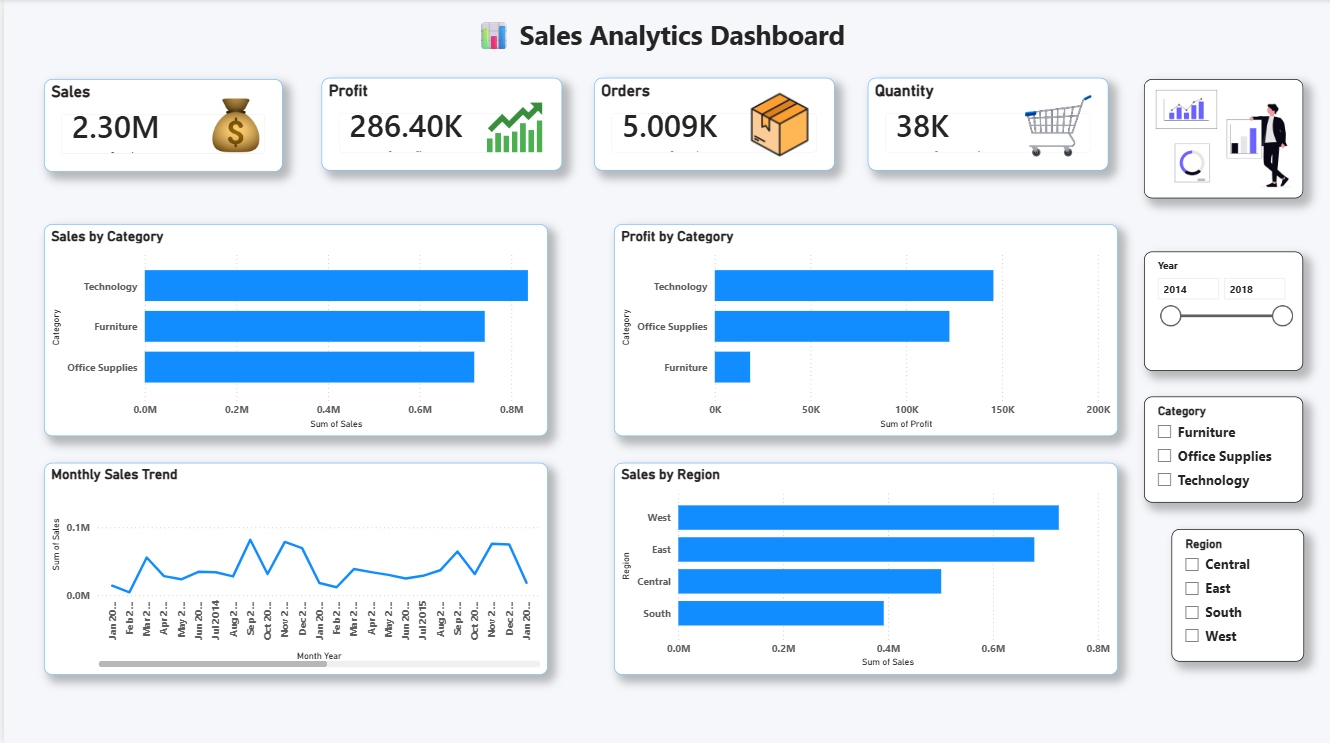

The dashboard page shown, as its layout file describes it:
{"tool":"powerbi","page":{"name":"Dashboard","canvas":[1600,900],"ordinal":0},"visuals":[{"type":"cardVisual","title":"Sales","fields":{"Data":["Sum(Sample.Sales)"]},"box":[48,96,288,112],"z":0},{"type":"cardVisual","title":"Profit","fields":{"Data":["Sum(Sample.Profit)"]},"box":[382.4,94.9,290,112],"z":1000},{"type":"cardVisual","title":"Orders","fields":{"Data":["Count(Sample.Order ID)"]},"box":[712.4,94.9,290,112],"z":2000},{"type":"cardVisual","title":"Quantity","fields":{"Data":["Sum(Sample.Quantity)"]},"box":[1042.4,94.9,290,112],"z":3000},{"type":"clusteredBarChart","title":"Sales by Category","fields":{"Category":["Sample.Category"],"Y":["Sum(Sample.Sales)"]},"box":[48,272,608,256],"z":4000},{"type":"clusteredBarChart","title":"Profit by Category","fields":{"Category":["Sample.Category"],"Y":["Sum(Sample.Profit)"]},"box":[736,272,608,256],"z":5000},{"type":"lineChart","title":"Monthly Sales Trend","fields":{"Y":["Sum(Sample.Sales)"],"Category":["Sample.Month Year"]},"box":[48,560,608,256],"z":6000},{"type":"clusteredBarChart","title":"Sales by Region","fields":{"Y":["Sum(Sample.Sales)"],"Category":["Sample.Region"]},"box":[736,560,608,256],"z":7000},{"type":"textbox","box":[564,16.6,472,54.3],"z":8000},{"type":"slicer","fields":{"Values":["Sample.Ship Date.Variation.Date Hierarchy.Year"]},"box":[1376,304,192,144],"z":9000},{"type":"slicer","fields":{"Values":["Sample.Category"]},"box":[1376,480,192,128],"z":10000},{"type":"slicer","fields":{"Values":["Sample.Region"]},"box":[1408,640,160,160],"z":11000},{"type":"image","box":[240,112,80,80],"z":12000},{"type":"image","box":[576,112,80,80],"z":13000},{"type":"image","box":[896,112,80,80],"z":14000},{"type":"image","box":[1232,112,80,80],"z":15000},{"type":"image","box":[1376,96,192,144],"z":16000}]}

Visuals, with their boxes in screenshot pixels (x1, y1, x2, y2), scaled from the page's 1600x900 canvas onto the 1330x743 screenshot:
"Sales" cardVisual: [left=40, top=79, right=279, bottom=172]
"Profit" cardVisual: [left=318, top=78, right=559, bottom=171]
"Orders" cardVisual: [left=592, top=78, right=833, bottom=171]
"Quantity" cardVisual: [left=866, top=78, right=1108, bottom=171]
"Sales by Category" clusteredBarChart: [left=40, top=225, right=545, bottom=436]
"Profit by Category" clusteredBarChart: [left=612, top=225, right=1117, bottom=436]
"Monthly Sales Trend" lineChart: [left=40, top=462, right=545, bottom=674]
"Sales by Region" clusteredBarChart: [left=612, top=462, right=1117, bottom=674]
textbox: [left=469, top=14, right=861, bottom=59]
slicer - Sample.Ship Date.Variation.Date Hierarchy.Year: [left=1144, top=251, right=1303, bottom=370]
slicer - Sample.Category: [left=1144, top=396, right=1303, bottom=502]
slicer - Sample.Region: [left=1170, top=528, right=1303, bottom=660]
image: [left=200, top=92, right=266, bottom=159]
image: [left=479, top=92, right=545, bottom=159]
image: [left=745, top=92, right=811, bottom=159]
image: [left=1024, top=92, right=1091, bottom=159]
image: [left=1144, top=79, right=1303, bottom=198]
